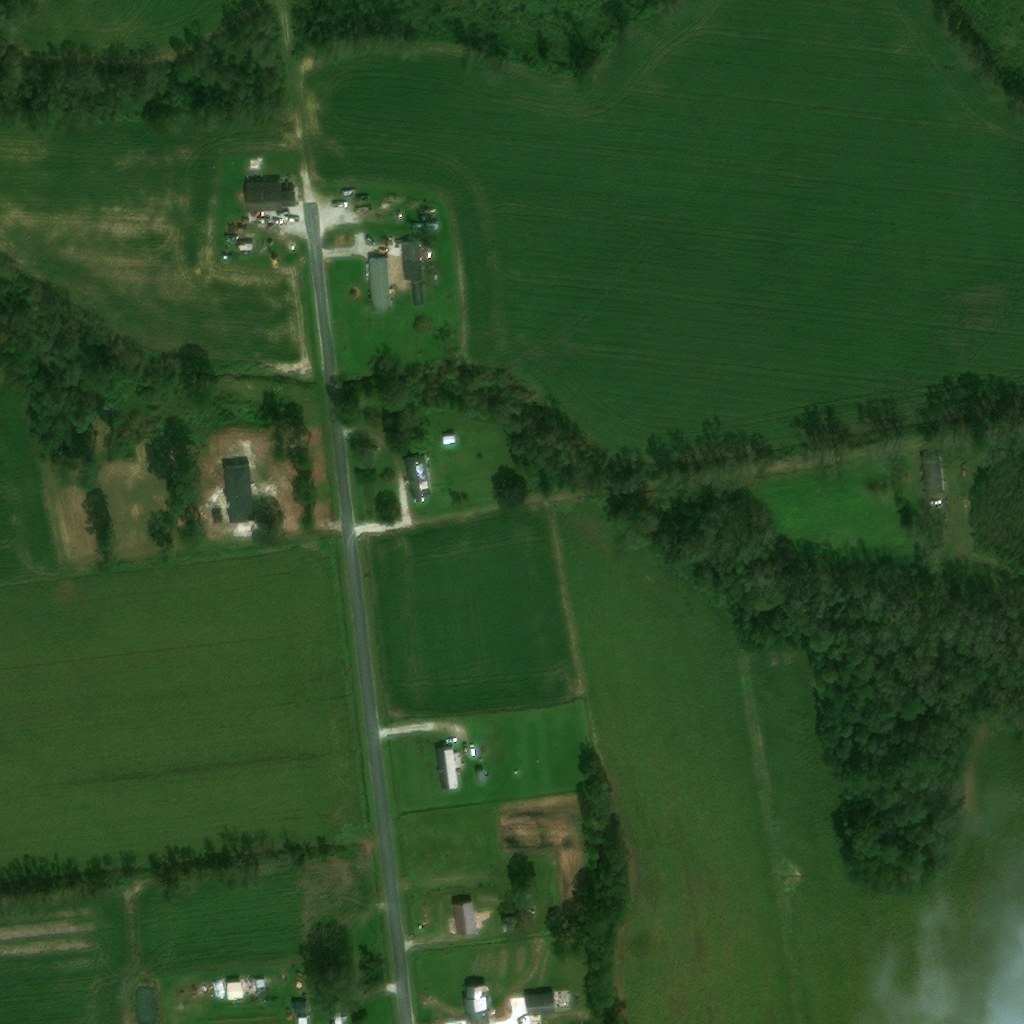minor_damage: (404, 455, 431, 498), (463, 982, 491, 1023)
no_damage: (223, 464, 254, 523), (241, 180, 300, 210), (368, 257, 395, 309), (402, 240, 433, 280), (436, 746, 461, 789), (919, 454, 945, 494), (452, 901, 476, 934), (525, 991, 557, 1014), (412, 281, 425, 304), (500, 918, 519, 933), (331, 1001, 343, 1023), (228, 982, 243, 999), (515, 890, 532, 905), (294, 1000, 308, 1014), (215, 983, 226, 999), (442, 436, 458, 446), (477, 770, 488, 784), (254, 978, 266, 989), (298, 1018, 308, 1023)
